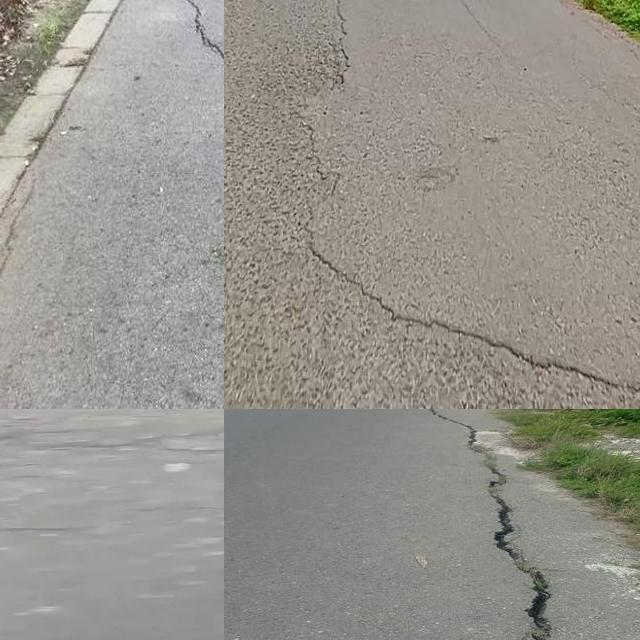Melintang: (304, 249, 640, 400)
Memanjang: (426, 409, 557, 640), (276, 0, 369, 244)
